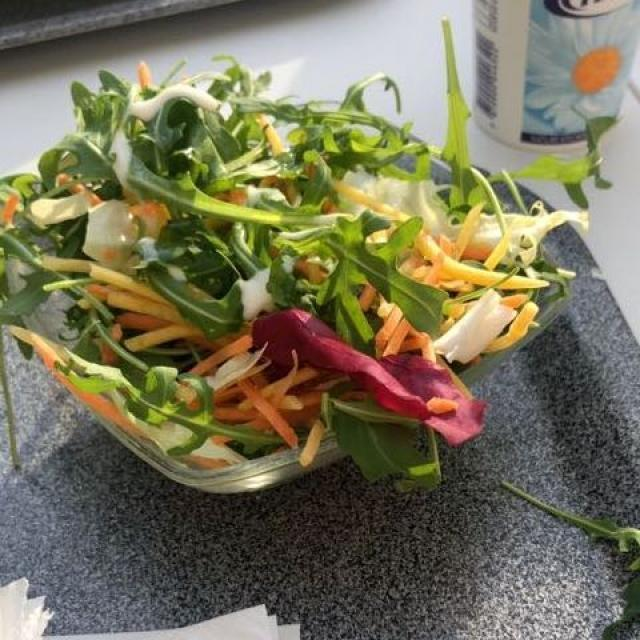salad: (14, 69, 567, 473)
